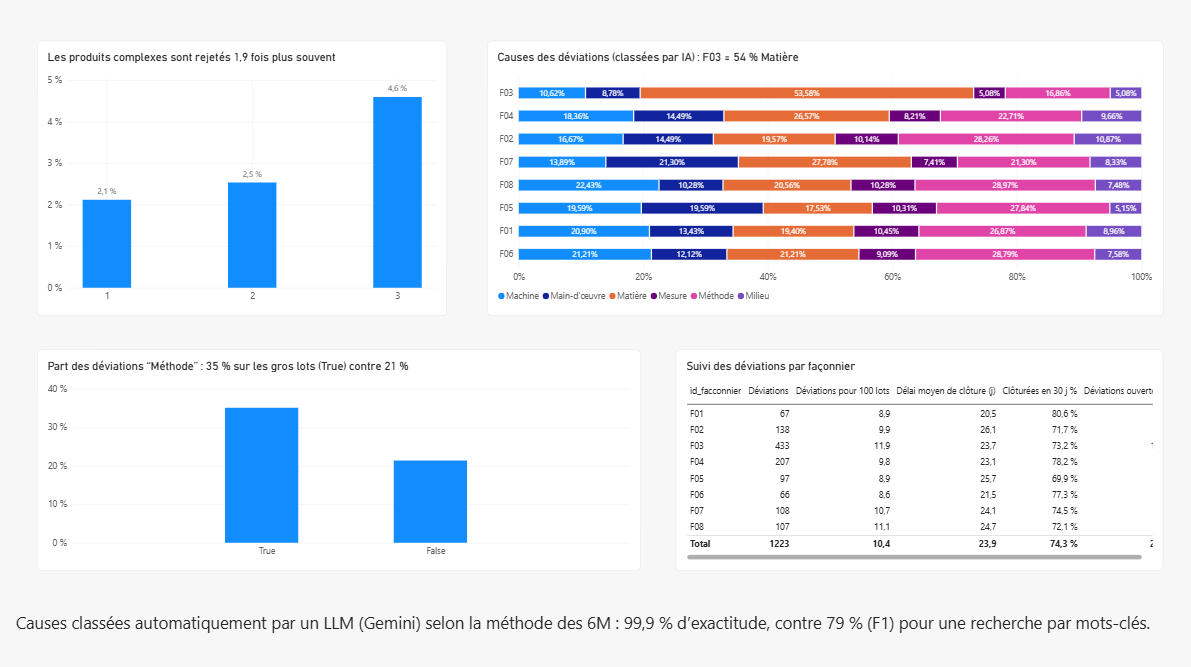

This screenshot's page, from the dashboard's own definition file:
{"tool":"powerbi","page":{"name":"Qualité","canvas":[1920,1080],"ordinal":2},"visuals":[{"type":"clusteredColumnChart","title":"Les produits complexes sont rejetés 1,9 fois plus souvent","fields":{"Category":["dim_produit.complexite"],"Y":["_Mesures.Taux de rejet %"]},"box":[64,70,656,440],"z":0},{"type":"hundredPercentStackedBarChart","title":"Causes des déviations (classées par IA) : F03 = 54 % Matière","fields":{"Category":["dim_facconnier.id_facconnier"],"Series":["deviations.categorie_ia"],"Y":["_Mesures.Déviations"]},"box":[784,70,1082,440],"z":1},{"type":"clusteredColumnChart","title":"Part des déviations “Méthode” : 35 % sur les gros lots (True) contre 21 %","fields":{"Category":["deviations.gros_lot"],"Y":["_Mesures.Part de la cause %"]},"box":[64,564,966,354],"z":2},{"type":"tableEx","title":"Suivi des déviations par façonnier","fields":{"Values":["dim_facconnier.id_facconnier","_Mesures.Déviations","_Mesures.Déviations pour 100 lots","_Mesures.Délai moyen de clôture (j)","_Mesures.Clôturées en 30 j %","_Mesures.Déviations ouvertes"]},"box":[1086,564,780,354],"z":3},{"type":"textbox","box":[644,0,280,280],"z":4},{"type":"textbox","box":[30,982,1864,44],"z":5}]}

Visuals, with their boxes in screenshot pixels (x1, y1, x2, y2), scaled from the page's 1920x1080 canvas onto the 1191x667 screenshot:
"Les produits complexes sont rejetés 1,9 fois plus souvent" clusteredColumnChart: rect(40, 43, 447, 315)
"Causes des déviations (classées par IA) : F03 = 54 % Matière" hundredPercentStackedBarChart: rect(486, 43, 1158, 315)
"Part des déviations “Méthode” : 35 % sur les gros lots (True) contre 21 %" clusteredColumnChart: rect(40, 348, 639, 567)
"Suivi des déviations par façonnier" tableEx: rect(674, 348, 1158, 567)
textbox: rect(399, 0, 573, 173)
textbox: rect(19, 606, 1175, 634)
